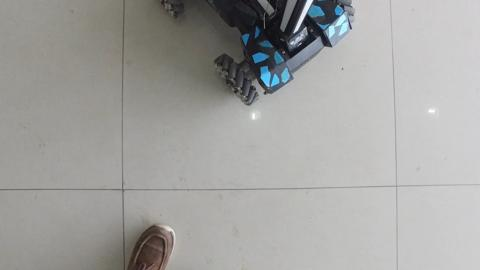chariot: (145, 4, 365, 98)
